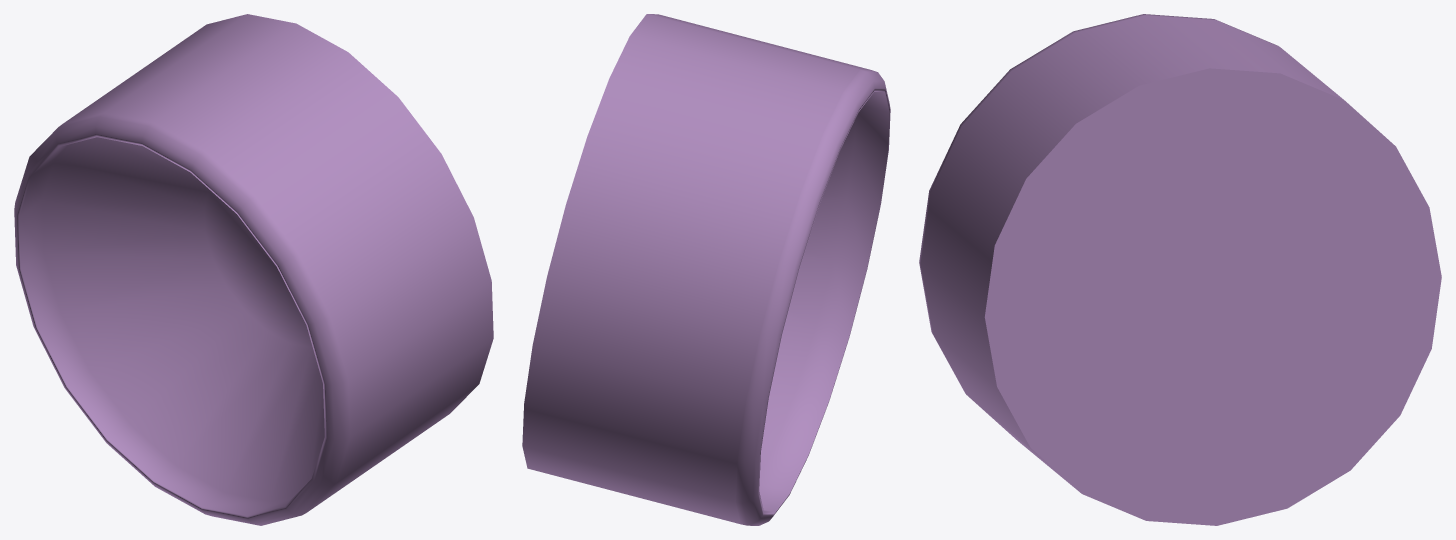
File: TL5_8shapes_Round_Classic_Metal.001 2.glb
The picture shows the model from 3 angles, left to right: view 1: azimuth 30°, elevation 25°; view 2: azimuth 150°, elevation 25°; view 3: azimuth 270°, elevation 25°; orthographic projection. The views are drawn at different scales.
Parts seen in each view (by area): view 1: TL5_8shapes_Round_Classic_Metal.001; view 2: TL5_8shapes_Round_Classic_Metal.001; view 3: TL5_8shapes_Round_Classic_Metal.001.
Boxes of the visible parts, left/top/right/bottom form: TL5_8shapes_Round_Classic_Metal.001: left=14, top=14, right=493, bottom=525; TL5_8shapes_Round_Classic_Metal.001: left=522, top=14, right=890, bottom=525; TL5_8shapes_Round_Classic_Metal.001: left=919, top=14, right=1441, bottom=525.
Bounding box in the file's own units: 0.4152 × 0.5671 × 0.5851.
